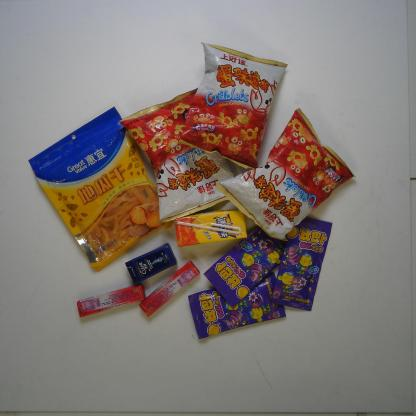Candy: (186, 270, 288, 341), (201, 224, 283, 308), (270, 216, 334, 313), (138, 260, 201, 319), (75, 282, 148, 319)
Dried Fruit: (25, 102, 174, 275)
Drink: (171, 207, 250, 248)
Personal Hygiene: (123, 241, 179, 286)
Puffed Food: (214, 106, 359, 244), (116, 86, 236, 227), (177, 39, 290, 172)
